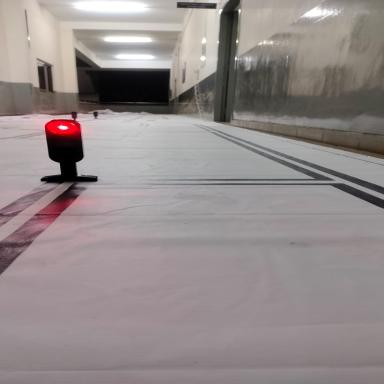traffic red: (30, 112, 117, 196)
